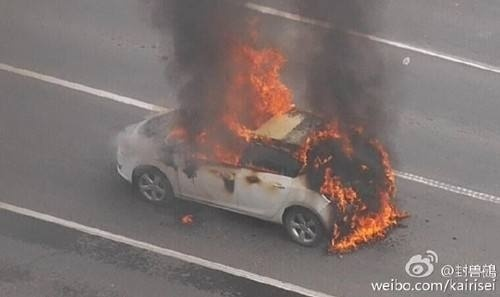fire: (168, 36, 298, 170), (300, 119, 406, 251)
